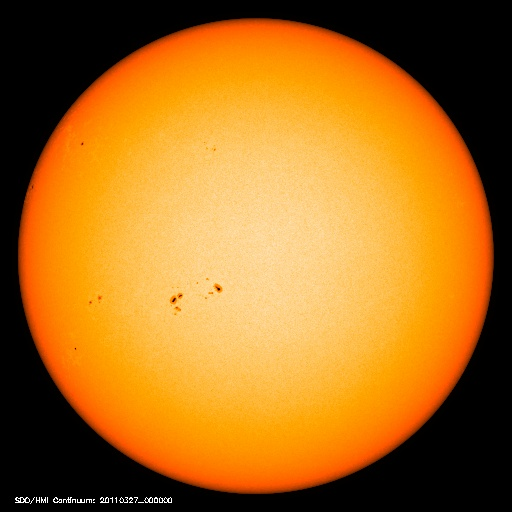sunspot: (158, 271, 228, 324), (82, 286, 115, 313), (193, 132, 224, 160), (22, 174, 46, 200), (63, 340, 86, 359), (76, 133, 91, 154)
